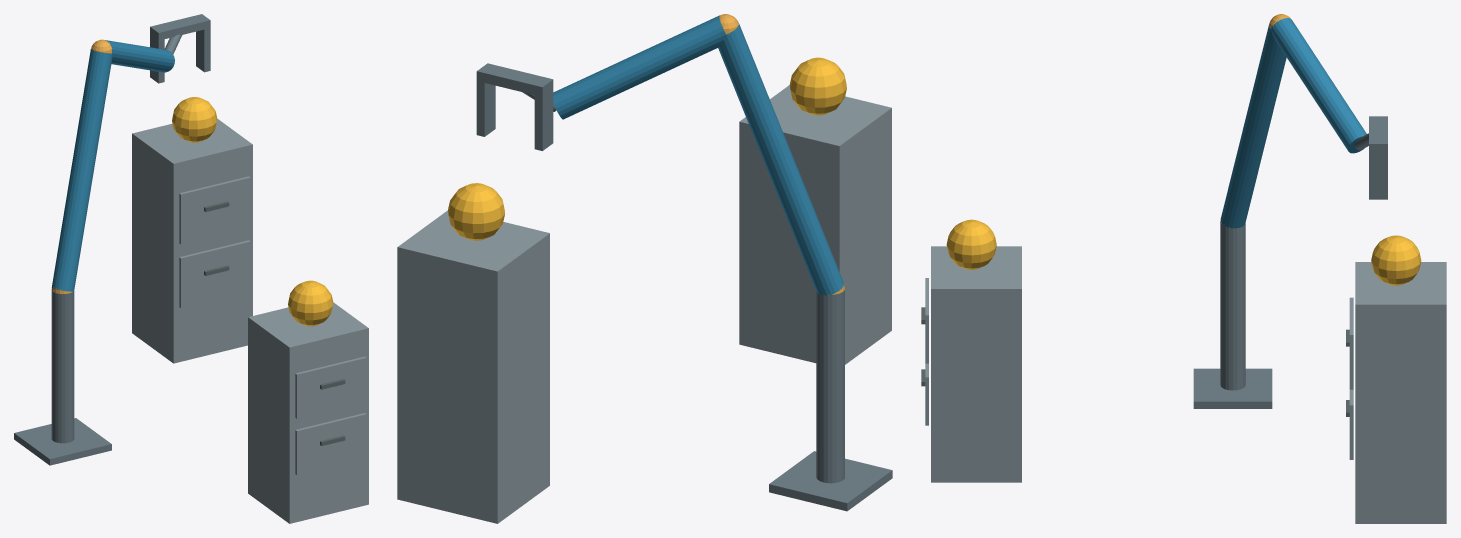
3 views of the same model, side by side, from view 1: azimuth 30°, elevation 25°; view 2: azimuth 150°, elevation 25°; view 3: azimuth 270°, elevation 25° (orthographic). The views are drawn at different scales.
Parts seen in each view (by area): view 1: cabinet_2 body, cabinet_1 body, moving link 1, cabinet_2 drawer front.001, cabinet_2 drawer front, fixed post, cabinet_1 drawer front.001, cabinet_1 drawer front, pedestal, released ball_1, ball ball_2, moving link 2 (+2 smaller); view 2: cabinet_2 body, cabinet_1 body, moving link 1, fixed post, moving link 2, pedestal, ball ball_2, released ball_1, gripper bridge, gripper finger -1, gripper finger 1; view 3: cabinet_2 body, cabinet_1 body, moving link 1, fixed post, moving link 2, pedestal, ball ball_2, released ball_1, gripper finger 1, gripper bridge.
Part boxes in pixels (<box>): cabinet_2 body: <box>132,119,252,363</box>; cabinet_1 body: <box>248,302,368,523</box>; moving link 1: <box>51,49,112,291</box>; cabinet_2 drawer front.001: <box>179,176,250,244</box>; cabinet_2 drawer front: <box>179,240,250,308</box>; fixed post: <box>51,290,74,443</box>; cabinet_1 drawer front.001: <box>295,356,366,418</box>; cabinet_1 drawer front: <box>295,413,366,475</box>; pedestal: <box>14,418,111,465</box>; released ball_1: <box>288,280,333,326</box>; ball ball_2: <box>172,97,217,142</box>; moving link 2: <box>105,40,174,72</box>; cabinet_2 body: <box>397,210,549,523</box>; cabinet_1 body: <box>739,85,891,364</box>; moving link 1: <box>718,24,844,295</box>; fixed post: <box>816,290,844,483</box>; moving link 2: <box>553,15,725,119</box>; pedestal: <box>769,451,892,511</box>; ball ball_2: <box>448,183,504,240</box>; released ball_1: <box>789,57,846,115</box>; gripper bridge: <box>476,63,553,96</box>; gripper finger -1: <box>534,89,553,150</box>; gripper finger 1: <box>476,81,495,136</box>; cabinet_2 body: <box>1355,262,1446,523</box>; cabinet_1 body: <box>931,246,1021,482</box>; moving link 1: <box>1220,23,1286,228</box>; fixed post: <box>1220,222,1245,390</box>; moving link 2: <box>1271,18,1366,153</box>; pedestal: <box>1193,368,1272,408</box>; ball ball_2: <box>1371,235,1421,285</box>; released ball_1: <box>946,219,996,269</box>; gripper finger 1: <box>1369,152,1387,199</box>; gripper bridge: <box>1369,116,1387,152</box>.
Size of the model in its own units: 1.12 by 1.44 by 1.67.
